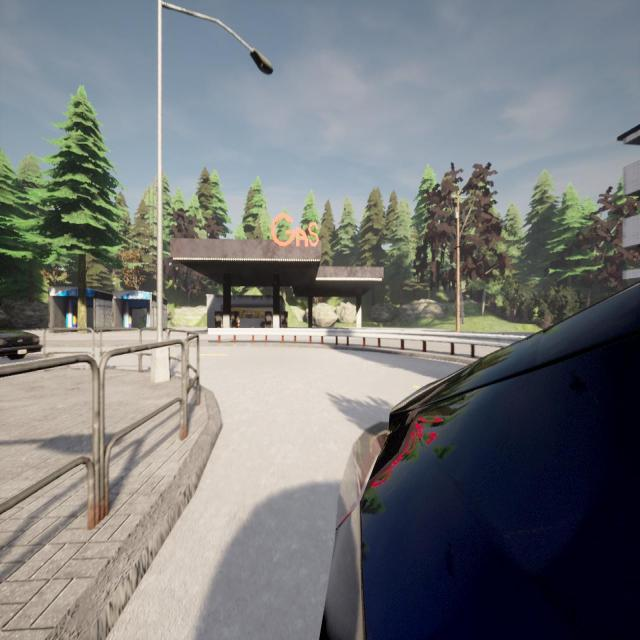Vehicle: (325, 285, 640, 640), (0, 320, 43, 360)
